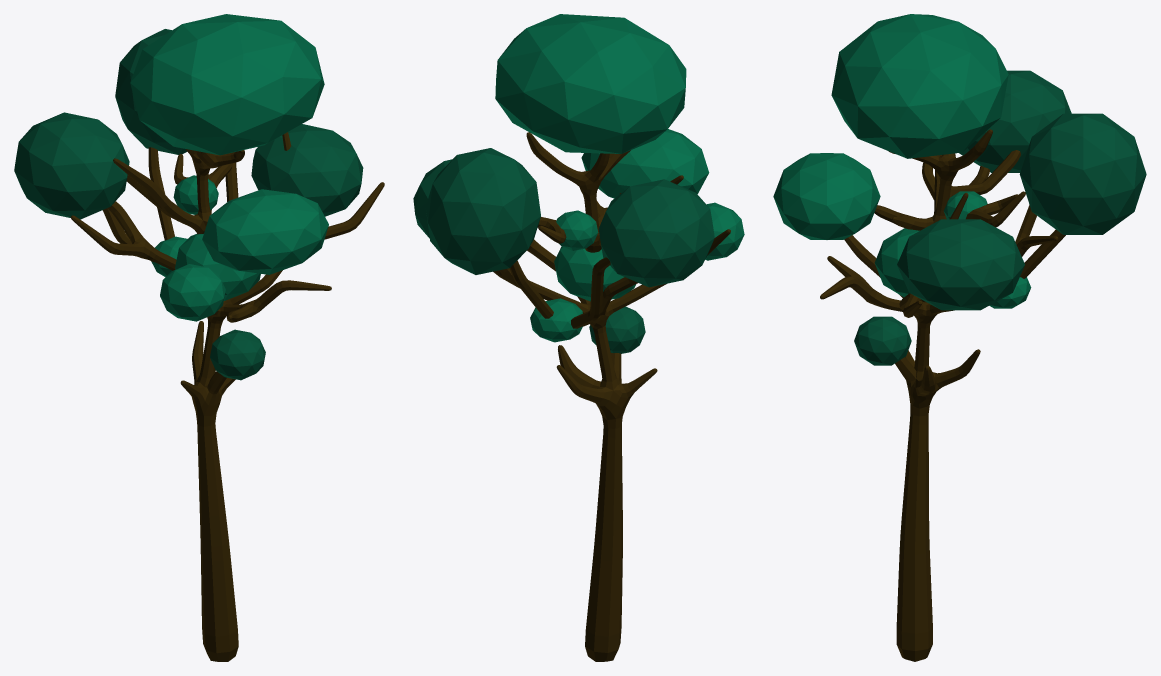
File: Tree.glb
The picture shows the model from 3 angles, left to right: view 1: azimuth 30°, elevation 25°; view 2: azimuth 150°, elevation 25°; view 3: azimuth 270°, elevation 25°; orthographic projection.
Visible parts, largest first — view 1: Object; view 2: Object; view 3: Object.
Boxes of the visible parts, left/top/right/bottom form: Object: left=14, top=14, right=384, bottom=661; Object: left=413, top=14, right=744, bottom=661; Object: left=773, top=14, right=1146, bottom=661.
Size of the model in its own units: 20.01 by 38.38 by 20.34.
